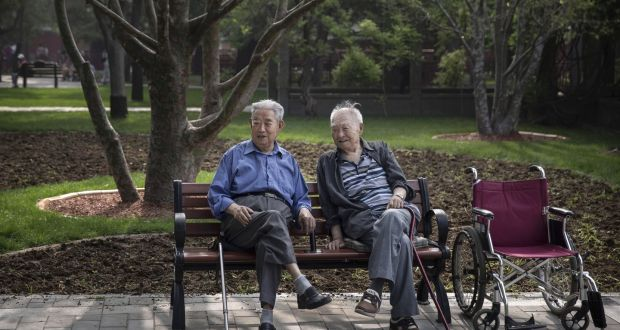Person: (199, 92, 334, 327), (308, 99, 432, 330)
